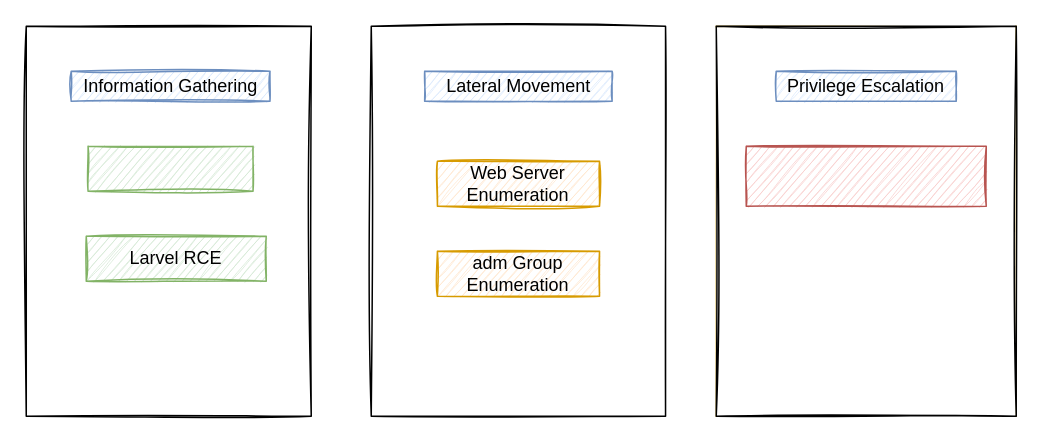
This 1043x443 diagram has some shape labels left out. The shapes that lost their labels are listed below. From the top down, each one's box as (x1, y1, x2, y2) in pixels, then its label:
(87, 145, 253, 191): Web Enumeration
(745, 145, 986, 206): Composer GTFO Bin Exploitation
